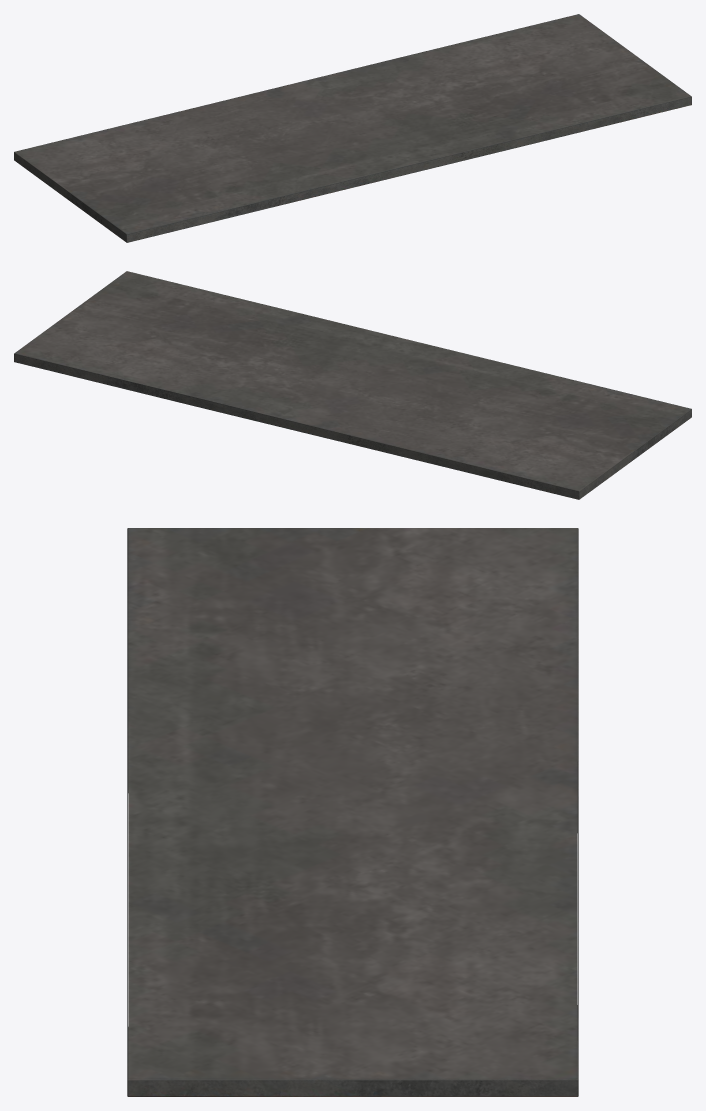
File: EKBACKEN_00335654.glb
The picture shows the model from 3 angles, top to bottom: view 1: azimuth 30°, elevation 25°; view 2: azimuth 150°, elevation 25°; view 3: azimuth 270°, elevation 25°; orthographic projection. The views are drawn at different scales.
Parts seen in each view (by area): view 1: model; view 2: model; view 3: model.
Boxes of the visible parts, bbox=[...] form: model: bbox=[14, 14, 691, 242]; model: bbox=[14, 271, 691, 499]; model: bbox=[127, 528, 578, 1096].
Size of the model in its own units: 1.88 by 0.0288 by 0.6499.
Materials: 1 (1 with a texture image).
